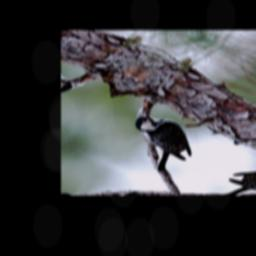Woodpecker: (103, 106, 214, 176)
